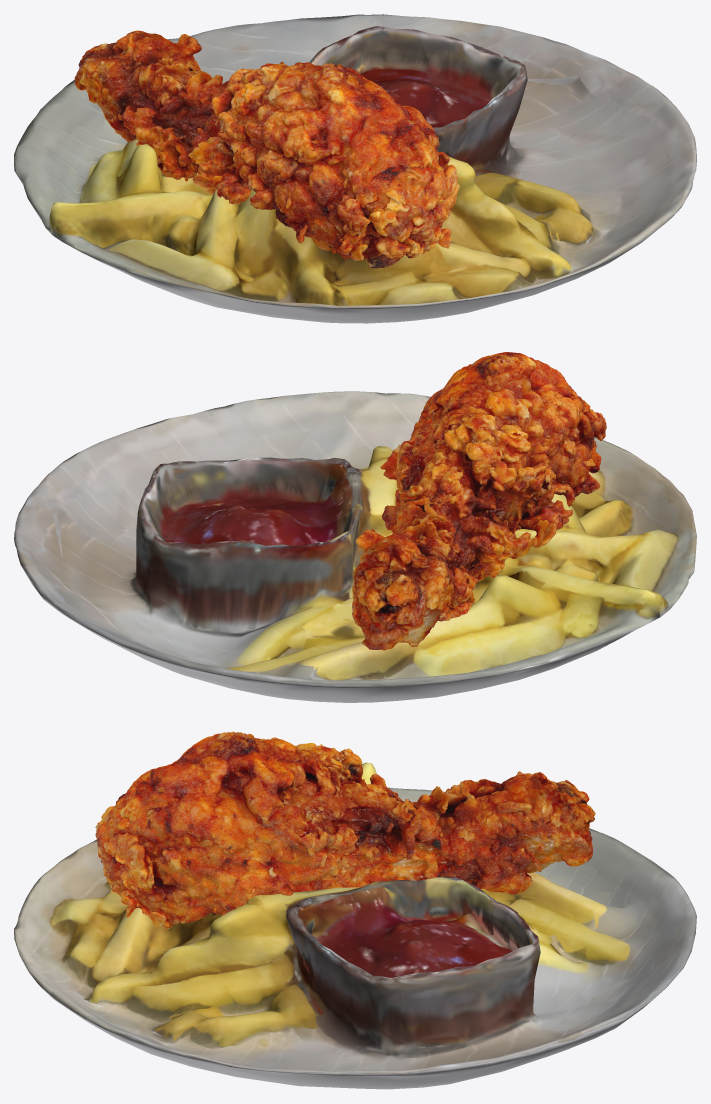
The model's file is papipollo-1.glb.
The picture shows the model from 3 angles, top to bottom: view 1: azimuth 30°, elevation 25°; view 2: azimuth 150°, elevation 25°; view 3: azimuth 270°, elevation 25°; orthographic projection.
Visible parts, largest first — view 1: Fries, Object_2; view 2: Fries, Object_2; view 3: Fries, Object_2.
Boxes of the visible parts, x1,y1,x2,y2 form: Fries: (14,14,696,323); Object_2: (74,30,459,268); Fries: (14,391,696,702); Object_2: (352,352,606,650); Fries: (14,762,696,1089); Object_2: (95,731,595,929).
Size of the model in its own units: 6.14 by 2.33 by 6.08.
2 materials, 2 textured.
